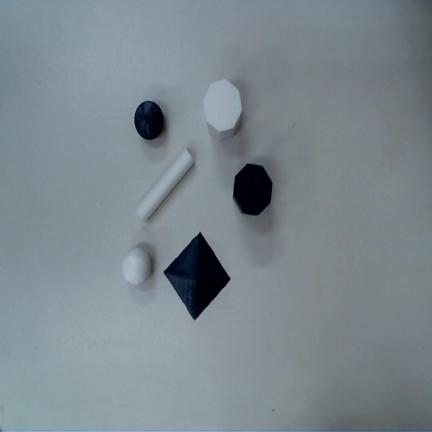Cilindro: (137, 150, 194, 220)
Esfera: (134, 100, 164, 140), (122, 247, 151, 284)
Piramide: (163, 231, 231, 319)
Prisma_hexagonal: (203, 79, 242, 140), (233, 163, 272, 215)
